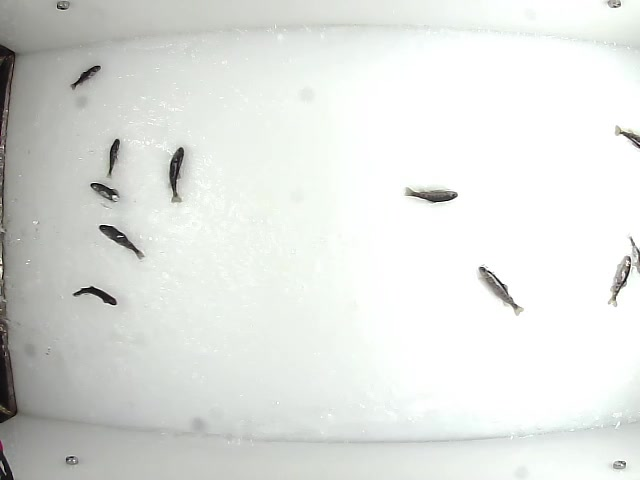fish: (475, 264, 524, 316), (97, 224, 146, 261), (606, 253, 632, 309), (70, 285, 118, 310), (403, 185, 460, 205), (166, 146, 185, 204), (68, 63, 103, 92), (102, 135, 122, 178), (88, 181, 122, 204)
